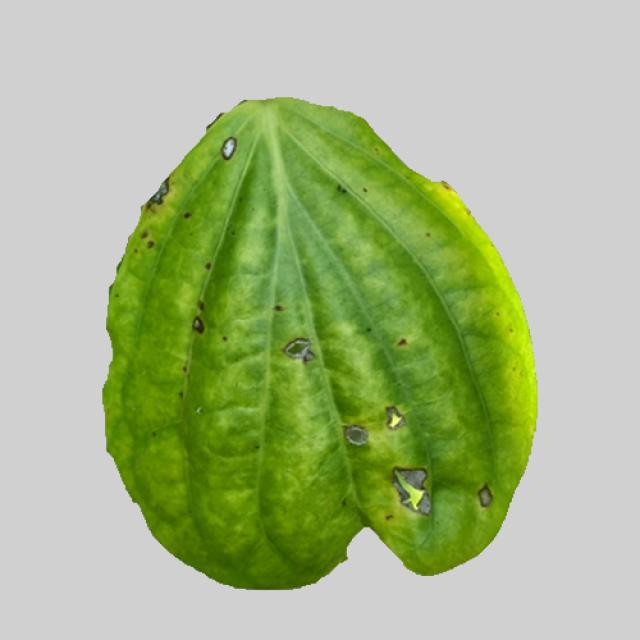yellow-mottle-virus: (93, 119, 543, 598)
